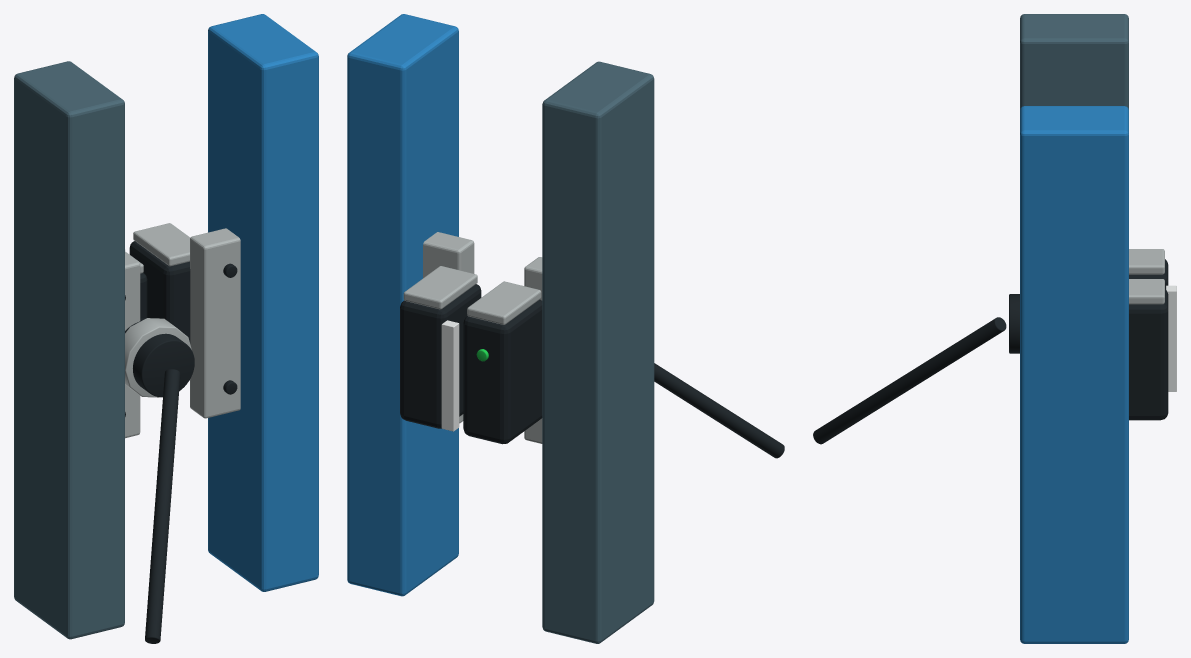
Rendered from coded_magnetic_safety_switch.glb.
3 views of the same model, side by side, from view 1: azimuth 30°, elevation 25°; view 2: azimuth 150°, elevation 25°; view 3: azimuth 270°, elevation 25° (orthographic). The views are drawn at different scales.
Parts seen in each view (by area): view 1: FIXED_GUARD_FRAME, MOVING_GUARD_EDGE, ACTUATOR_mount, SENSOR_cable, CODED_ACTUATOR_body, SENSOR_M12_body, SENSOR_mount, ACTUATOR_end_cap, SENSOR_M12_nut; view 2: FIXED_GUARD_FRAME, MOVING_GUARD_EDGE, CODED_SENSOR_body, CODED_ACTUATOR_body, SENSOR_cable, CLOSED_POSITION_GAP, ACTUATOR_end_cap, SENSOR_end_cap, ACTUATOR_mount, SENSOR_mount; view 3: MOVING_GUARD_EDGE, FIXED_GUARD_FRAME, CODED_ACTUATOR_body, SENSOR_cable, CLOSED_POSITION_GAP, ACTUATOR_end_cap, SENSOR_end_cap, SENSOR_M12_body.
Boxes of the visible parts, x1=… form: FIXED_GUARD_FRAME: x1=14, y1=61, x2=124, y2=639; MOVING_GUARD_EDGE: x1=208, y1=14, x2=318, y2=591; ACTUATOR_mount: x1=190, y1=228, x2=240, y2=418; SENSOR_cable: x1=145, y1=369, x2=180, y2=643; CODED_ACTUATOR_body: x1=129, y1=241, x2=190, y2=343; SENSOR_M12_body: x1=125, y1=318, x2=194, y2=397; SENSOR_mount: x1=125, y1=253, x2=140, y2=438; ACTUATOR_end_cap: x1=133, y1=223, x2=190, y2=266; SENSOR_M12_nut: x1=125, y1=318, x2=191, y2=397; FIXED_GUARD_FRAME: x1=542, y1=61, x2=654, y2=643; MOVING_GUARD_EDGE: x1=347, y1=14, x2=458, y2=596; CODED_SENSOR_body: x1=463, y1=299, x2=542, y2=444; CODED_ACTUATOR_body: x1=400, y1=284, x2=481, y2=428; SENSOR_cable: x1=654, y1=363, x2=784, y2=458; CLOSED_POSITION_GAP: x1=441, y1=320, x2=459, y2=431; ACTUATOR_end_cap: x1=403, y1=266, x2=477, y2=309; SENSOR_end_cap: x1=467, y1=281, x2=541, y2=324; ACTUATOR_mount: x1=423, y1=232, x2=474, y2=423; SENSOR_mount: x1=524, y1=257, x2=542, y2=443; MOVING_GUARD_EDGE: x1=1020, y1=106, x2=1128, y2=643; FIXED_GUARD_FRAME: x1=1020, y1=14, x2=1128, y2=109; CODED_ACTUATOR_body: x1=1129, y1=289, x2=1168, y2=420; SENSOR_cable: x1=813, y1=317, x2=1006, y2=444; CLOSED_POSITION_GAP: x1=1166, y1=285, x2=1176, y2=391; ACTUATOR_end_cap: x1=1129, y1=279, x2=1164, y2=304; SENSOR_end_cap: x1=1129, y1=249, x2=1164, y2=274; SENSOR_M12_body: x1=1009, y1=294, x2=1019, y2=353.
Size of the model in its own units: 0.5719 by 1.04 by 0.668.
